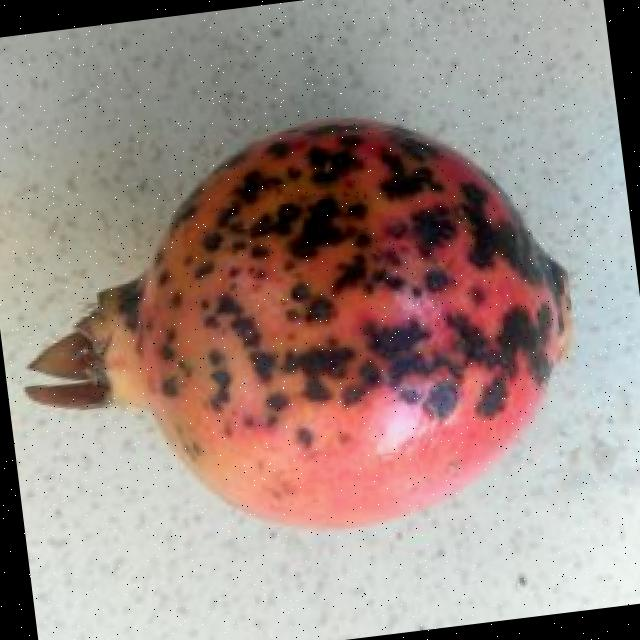overripe: (0, 96, 604, 578)
